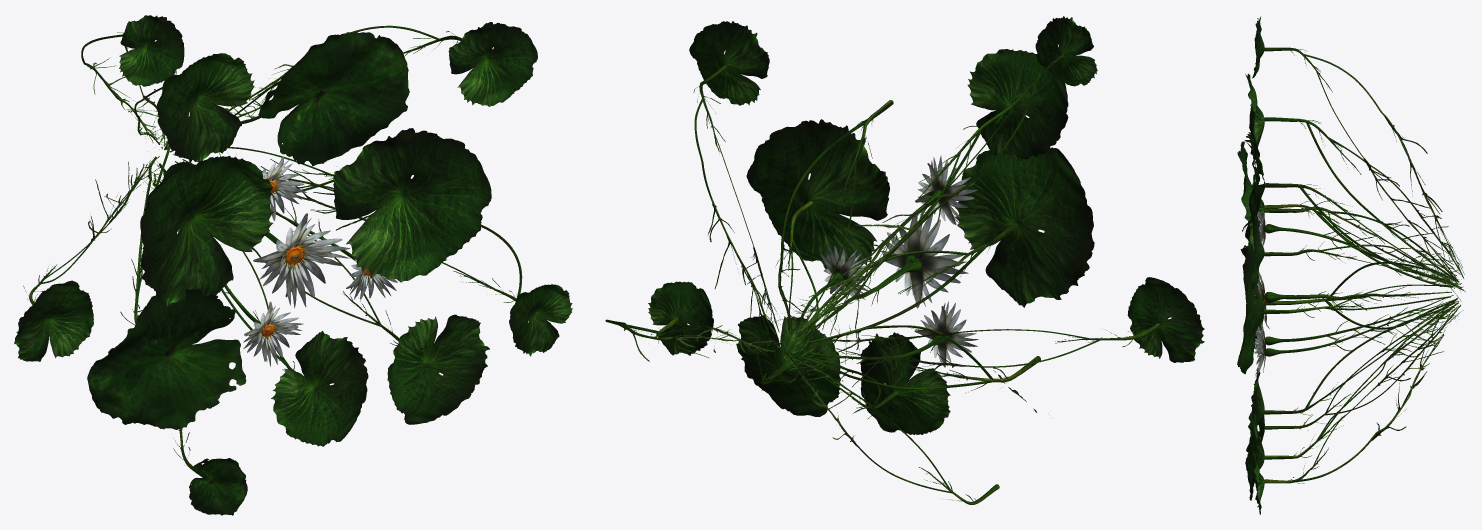
Rendered from WaterLily_Med.fbx.
3 renders of one model, left to right at view 1: azimuth 30°, elevation 25°; view 2: azimuth 150°, elevation 25°; view 3: azimuth 270°, elevation 25°, orthographic. The views are drawn at different scales.
Visible parts, largest first — view 1: LOD0; view 2: LOD0; view 3: LOD0.
Boxes of the visible parts, x1,y1,x2,y2 form: LOD0: (14, 15, 572, 515); LOD0: (605, 16, 1204, 504); LOD0: (1237, 16, 1465, 514).
Size of the model in its own units: 6.17 by 5.44 by 2.79.
